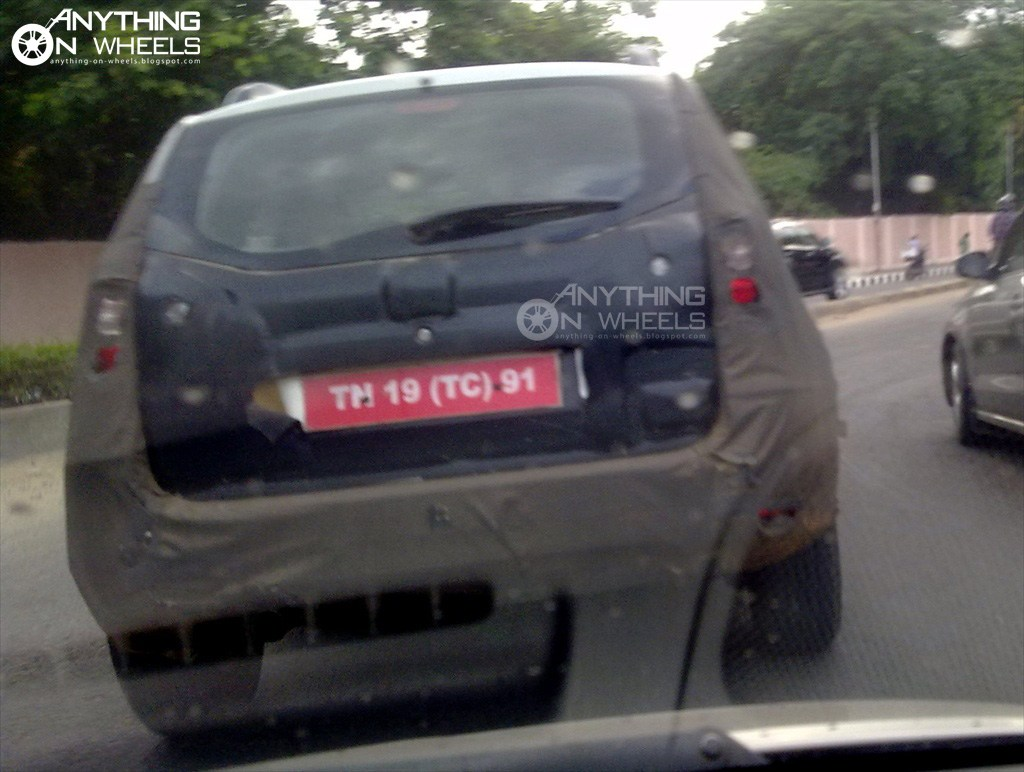number_plate: (286, 367, 575, 418)
